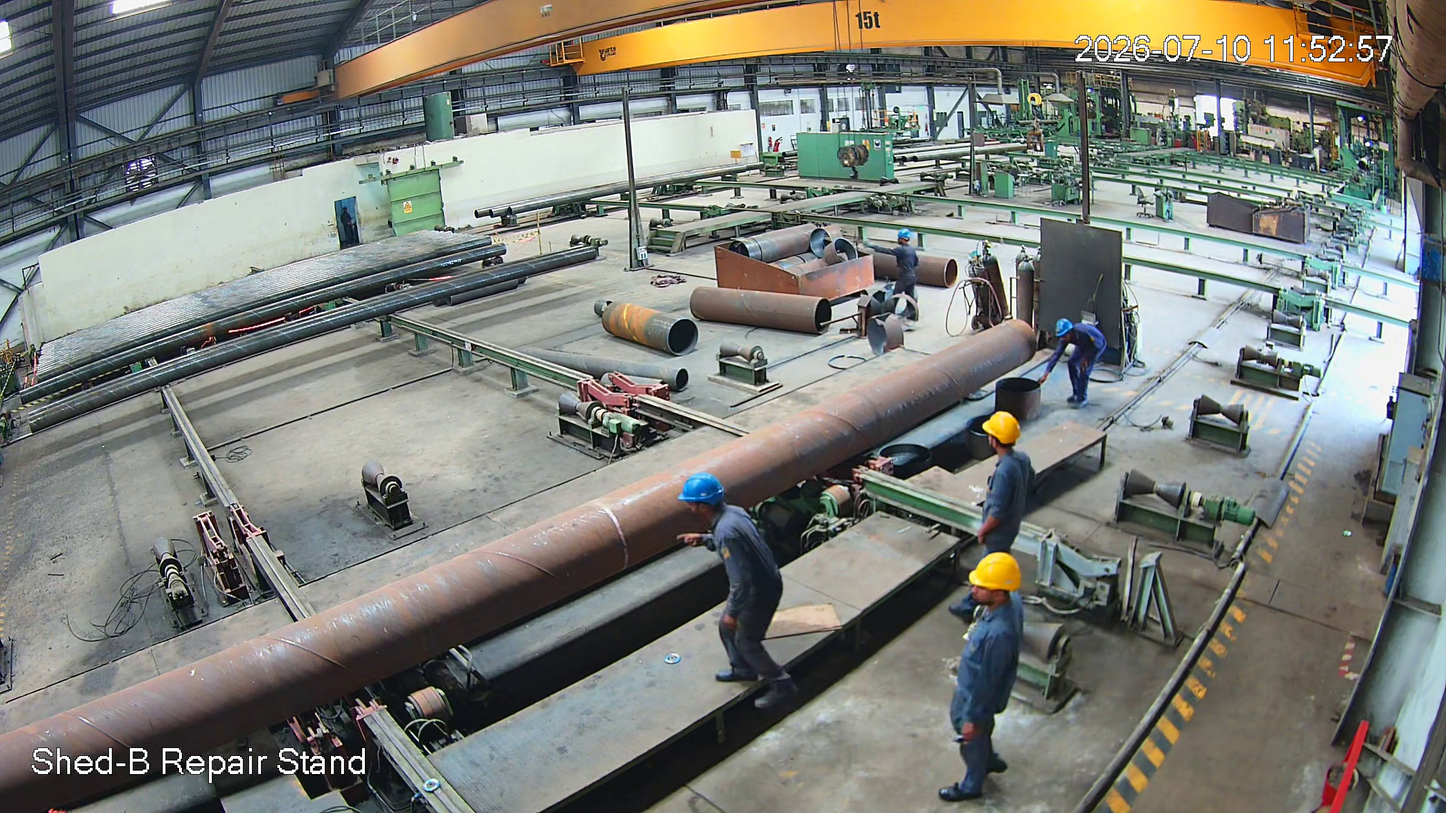Helmet: (964, 546, 1023, 611), (665, 461, 727, 520), (977, 412, 1023, 459), (1045, 311, 1077, 348), (892, 219, 912, 262)
Person: (658, 471, 816, 721), (946, 552, 1027, 803), (972, 413, 1032, 560), (1040, 314, 1111, 411), (878, 222, 923, 315)
